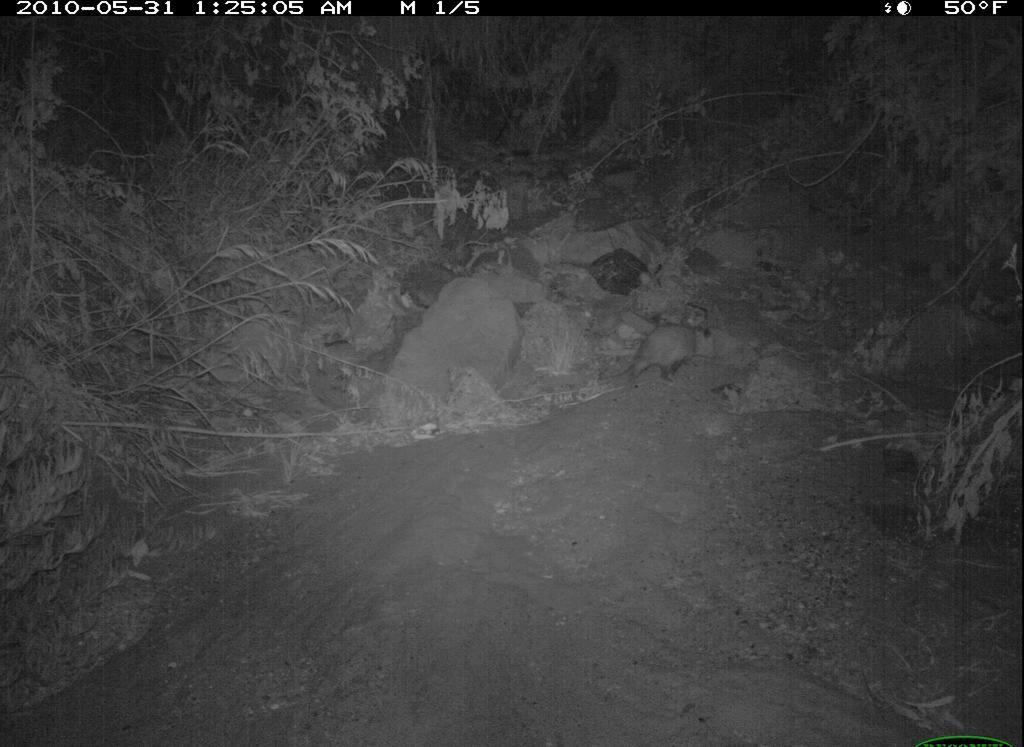opossum: (610, 309, 728, 397)
